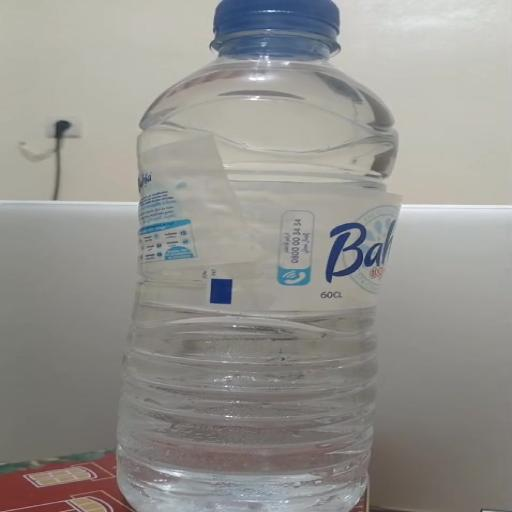bouteille conformite: (106, 0, 410, 512)
